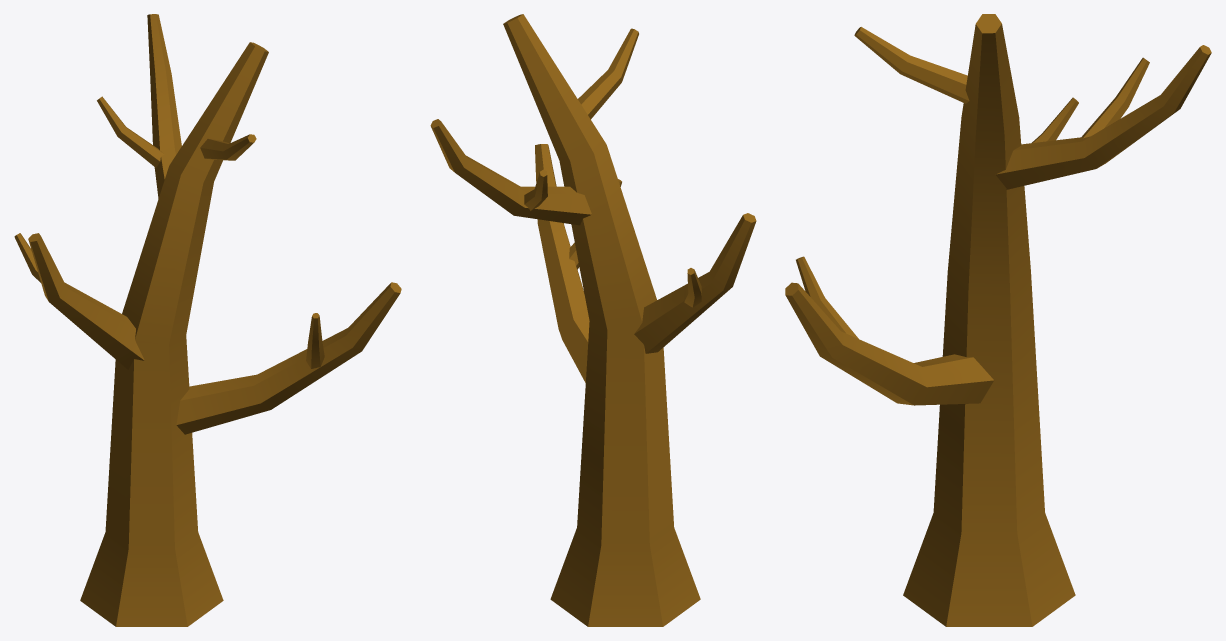
Rendered from tree6.glb.
The picture shows the model from 3 angles, left to right: view 1: azimuth 30°, elevation 25°; view 2: azimuth 150°, elevation 25°; view 3: azimuth 270°, elevation 25°; orthographic projection. The views are drawn at different scales.
Visible parts, largest first — view 1: Object_6; view 2: Object_6; view 3: Object_6.
Part boxes in pixels (left/top/right/bottom): Object_6: left=14, top=14, right=401, bottom=626; Object_6: left=430, top=14, right=756, bottom=626; Object_6: left=785, top=14, right=1211, bottom=626.
Bounding box in the file's own units: 15.62 × 27.3 × 16.48.
